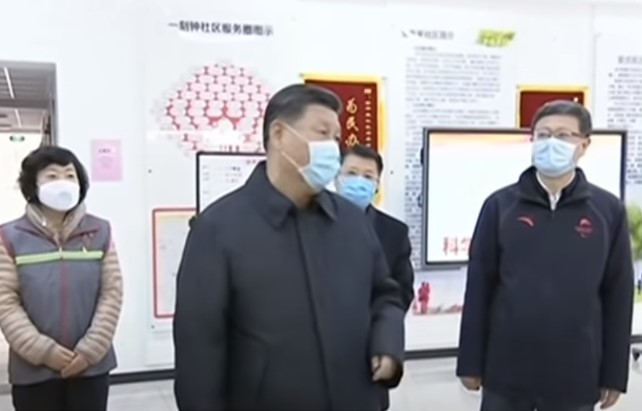face_with_mask: (262, 85, 343, 194), (530, 101, 594, 177), (27, 150, 84, 217), (339, 143, 382, 210)
